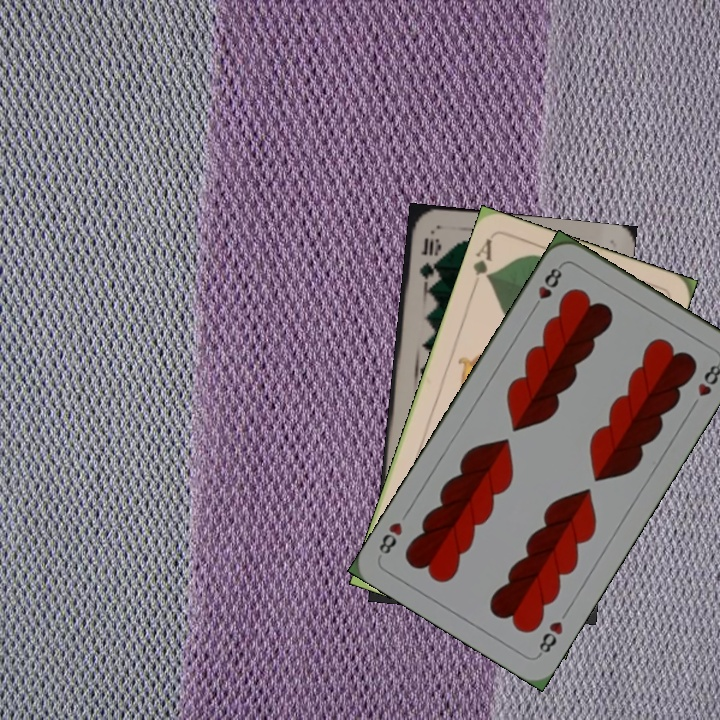G10: (415, 234, 440, 290)
GA: (468, 234, 495, 283)
H8: (528, 261, 565, 314), (534, 617, 566, 659)
